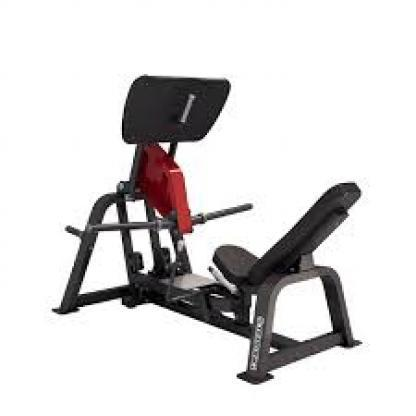leg press: (36, 57, 381, 400)
